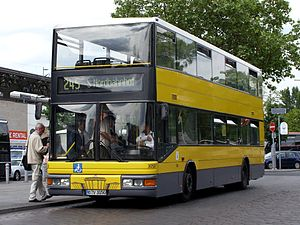bus: (47, 14, 273, 200)
